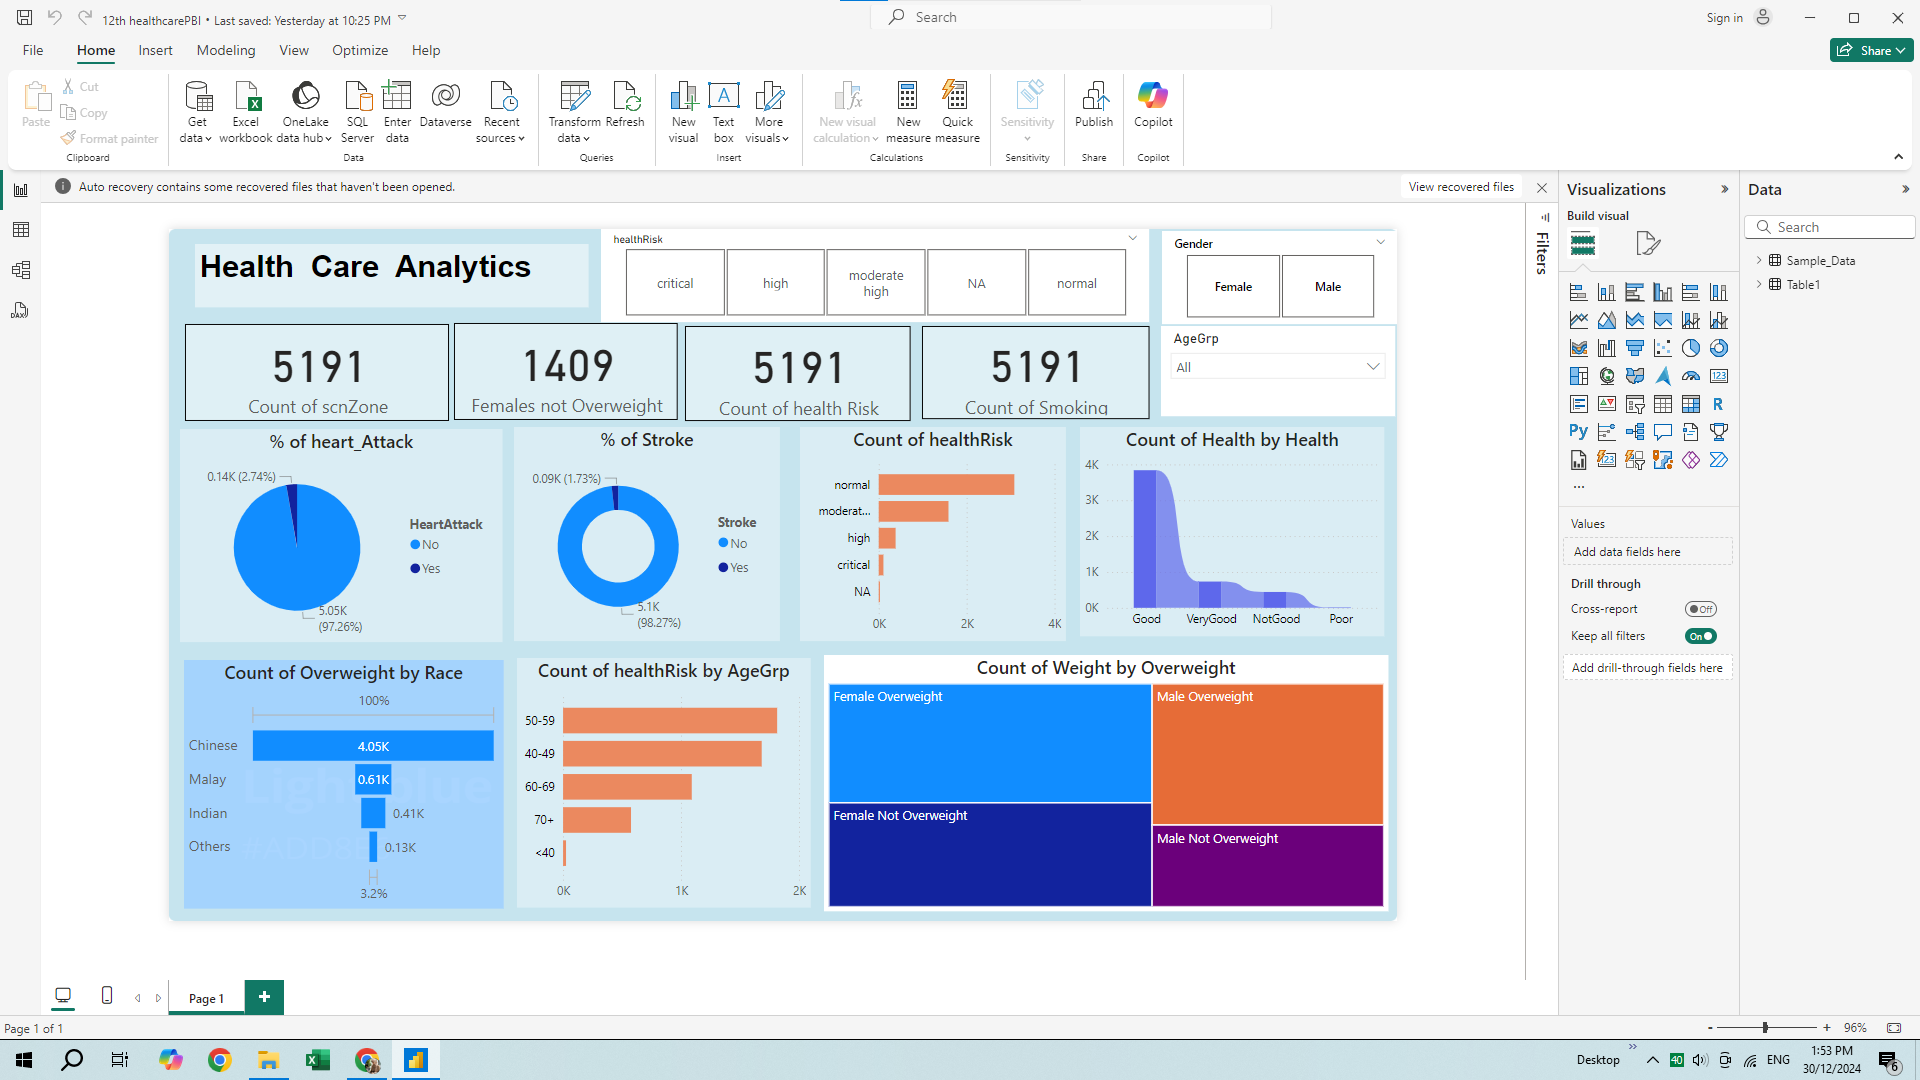

What the dashboard file says about the page in this screenshot:
{"tool":"powerbi","page":{"name":"Page 1","canvas":[1280,720],"ordinal":0},"visuals":[{"type":"card","fields":{"Values":["CountNonNull(Table1.scnZone)"]},"box":[16.8,99.1,275.5,100.8],"z":0},{"type":"pieChart","title":"% of heart_Attack ","fields":{"Category":["Table1.HeartAttack"],"Y":["CountNonNull(Table1.HeartAttack)"]},"box":[11.8,208.3,336,221.7],"z":1000},{"type":"donutChart","title":"% of Stroke ","fields":{"Category":["Table1.Stroke"],"Y":["CountNonNull(Table1.Stroke)"]},"box":[359.5,206.6,277.2,223.4],"z":2000},{"type":"card","title":"Females not overweight","fields":{"Values":["CountNonNull(Table1.Overweight)"]},"box":[297.3,97.4,233.5,100.8],"z":3000},{"type":"card","fields":{"Values":["CountNonNull(Table1.healthRisk)"]},"box":[537.5,100.8,235.2,99.1],"z":4000},{"type":"barChart","title":"Count of  healthRisk","fields":{"Category":["Table1.healthRisk"],"Y":["CountNonNull(Table1.healthRisk)"]},"box":[656.8,206.6,277.2,223.4],"z":5000},{"type":"treemap","fields":{"Values":["CountNonNull(Table1.Weight)"],"Group":["Table1.Overweight"]},"box":[682,443.5,587.9,267.1],"z":6000},{"type":"funnel","fields":{"Category":["Table1.Race"],"Y":["CountNonNull(Table1.Overweight)"]},"box":[15.1,448.5,332.6,258.7],"z":7000},{"type":"barChart","fields":{"Category":["Table1.AgeGrp"],"Y":["CountNonNull(Table1.healthRisk)"]},"box":[362.8,446.8,305.7,260.4],"z":8000},{"type":"card","fields":{"Values":["CountNonNull(Table1.Smoking)"]},"box":[784.5,100.8,236.9,97.4],"z":9000},{"type":"slicer","fields":{"Values":["Table1.Gender"]},"box":[1034.8,1.7,245.2,97.4],"z":10000},{"type":"slicer","fields":{"Values":["Table1.healthRisk"]},"box":[450.2,0,571.1,97.4],"z":11000},{"type":"slicer","fields":{"Values":["Table1.AgeGrp"]},"box":[1033.1,100.8,243.6,94.1],"z":12000},{"type":"ribbonChart","fields":{"Category":["Table1.Health"],"Y":["CountNonNull(Table1.Health)"]},"box":[949.1,206.6,317.5,218.4],"z":13000},{"type":"textbox","box":[26.9,15.1,409.9,65.5],"z":14000}]}

Visuals, with their boxes on the page's 1280x720 design canvas (x1, y1, x2, y2). These are canvas units, not pixel positions in the 1920x1080 screenshot, which may show the page scaled, cropped or inside an application window:
card - CountNonNull(Table1.scnZone): left=17, top=99, right=292, bottom=200
"% of heart_Attack " pieChart: left=12, top=208, right=348, bottom=430
"% of Stroke " donutChart: left=360, top=207, right=637, bottom=430
"Females not overweight" card: left=297, top=97, right=531, bottom=198
card - CountNonNull(Table1.healthRisk): left=538, top=101, right=773, bottom=200
"Count of  healthRisk" barChart: left=657, top=207, right=934, bottom=430
treemap - CountNonNull(Table1.Weight) x Table1.Overweight: left=682, top=444, right=1270, bottom=711
funnel - Table1.Race x CountNonNull(Table1.Overweight): left=15, top=448, right=348, bottom=707
barChart - Table1.AgeGrp x CountNonNull(Table1.healthRisk): left=363, top=447, right=668, bottom=707
card - CountNonNull(Table1.Smoking): left=784, top=101, right=1021, bottom=198
slicer - Table1.Gender: left=1035, top=2, right=1280, bottom=99
slicer - Table1.healthRisk: left=450, top=0, right=1021, bottom=97
slicer - Table1.AgeGrp: left=1033, top=101, right=1277, bottom=195
ribbonChart - Table1.Health x CountNonNull(Table1.Health): left=949, top=207, right=1267, bottom=425
textbox: left=27, top=15, right=437, bottom=81
